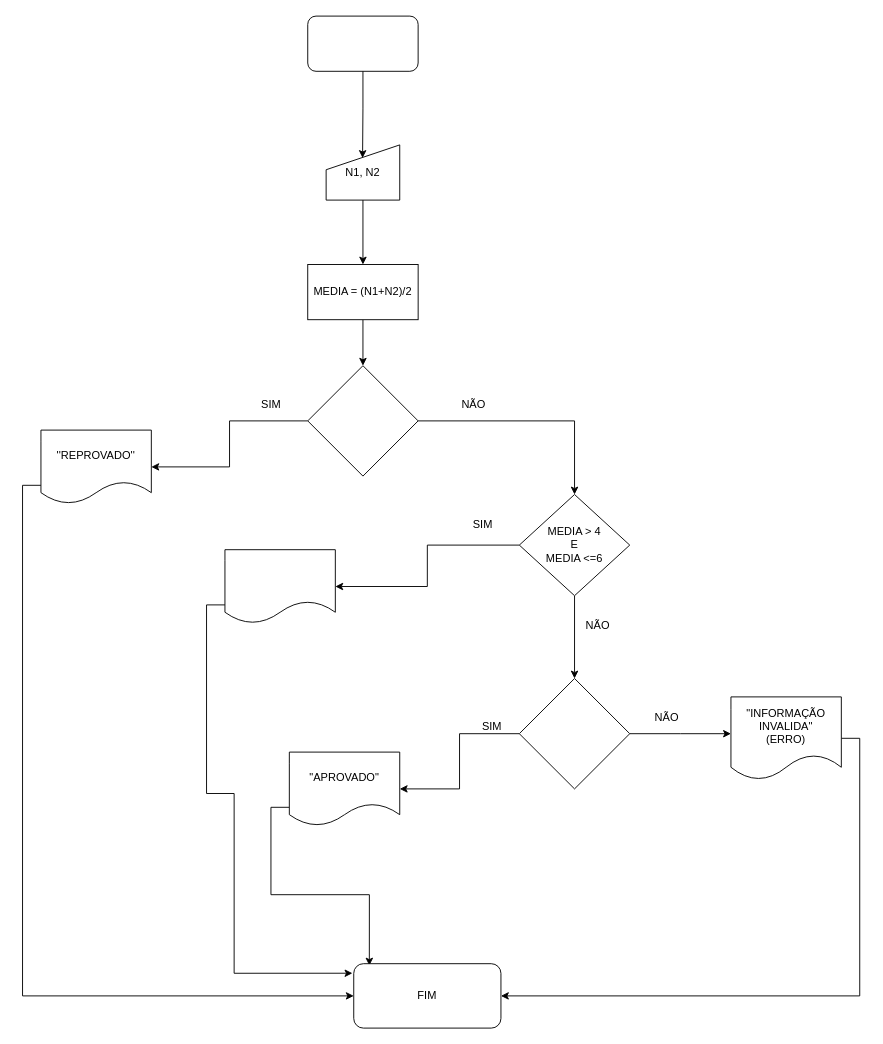
Image size: 883x1044. Some labels were removed from this diagram. Each missing label, with the box of its shape:
"RECUPERAÇÃO": (224, 549, 335, 623)
INÍCIO: (307, 15, 418, 71)
MEDIA > 6 E MEDIA <= 10: (518, 678, 630, 789)
MEDIA >= 0 E MEDIA <=4: (307, 365, 418, 476)
